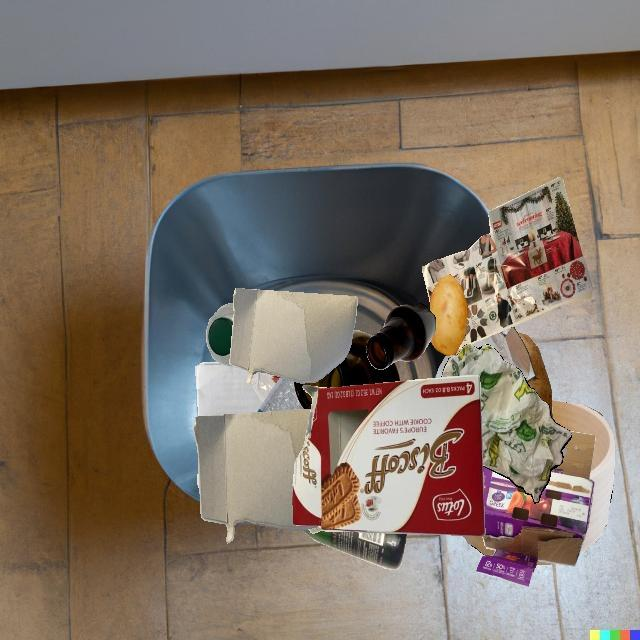biowaste: (517, 333, 553, 419), (430, 274, 468, 355)
cardboard: (292, 375, 485, 536), (476, 431, 596, 587), (193, 409, 319, 543), (229, 288, 358, 385)
combustible waste: (552, 400, 615, 553)
glass: (293, 330, 400, 409), (366, 304, 436, 370), (302, 529, 407, 570), (308, 526, 323, 533)
paper: (422, 177, 592, 348), (442, 344, 572, 503), (195, 362, 263, 416), (471, 327, 536, 382)
plastic: (206, 303, 238, 368), (257, 377, 304, 412), (252, 372, 280, 402)
